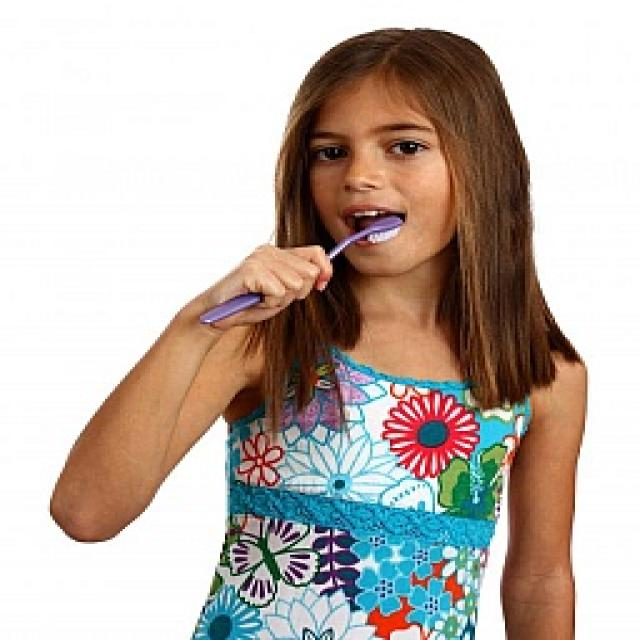Eyes: (312, 132, 432, 168)
